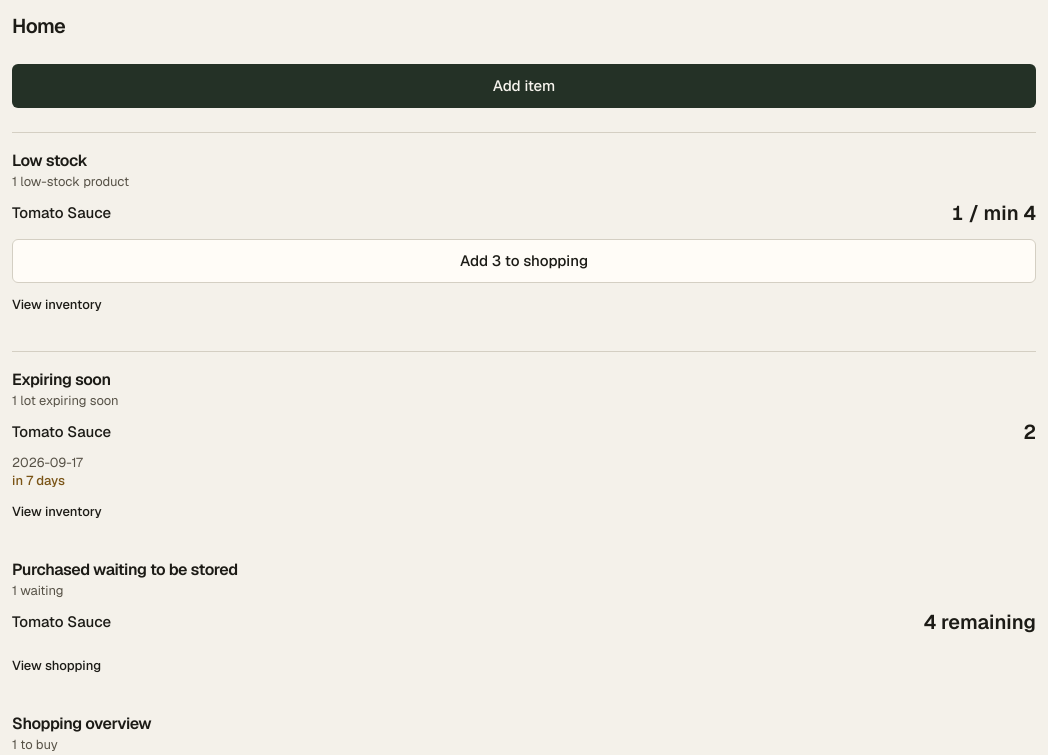
Scenario: HomeDashboardScreen › refreshes low-stock and shopping after a successful add
Click the button with aria-label "Add 3 Tomato Sauce to shopping" at (524, 261), box 12,239 -> 1036,283
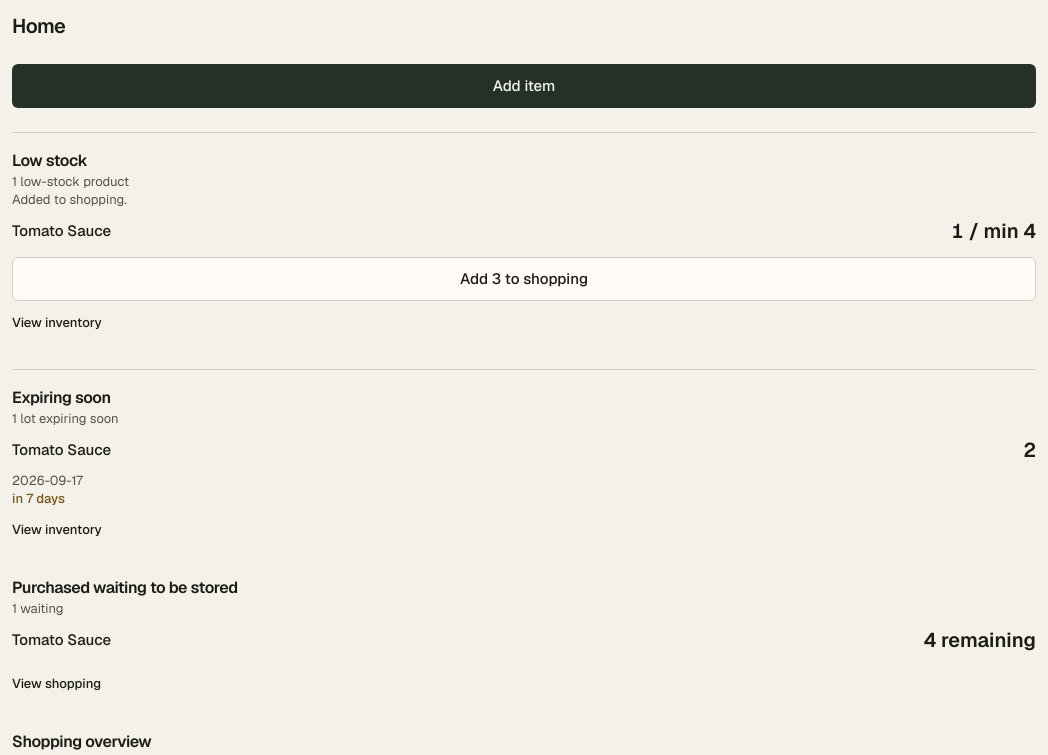
expect the link "Tomato Sauce 1 / min 4" is shown: met, box 12,218 -> 1036,244
expect the text "Added to shopping." is shown: met, box 12,191 -> 127,208
